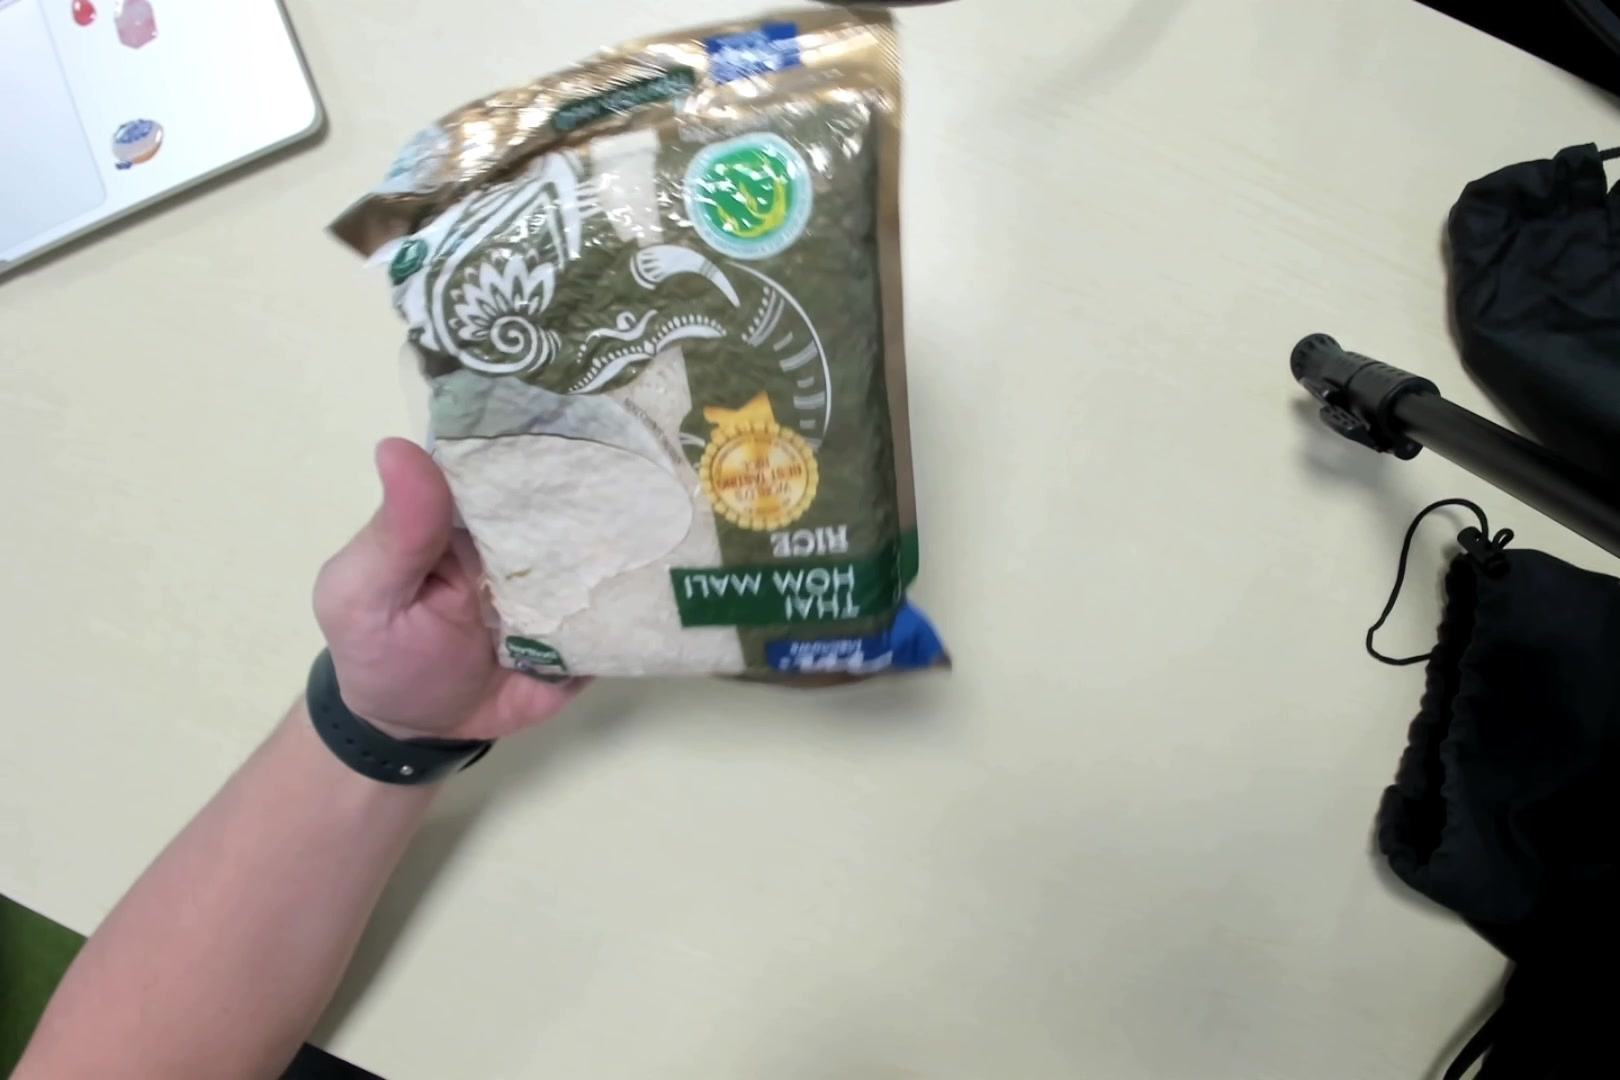Rice(White)_500-599g_NonHalal_NonHealthy: (368, 17, 943, 692)
